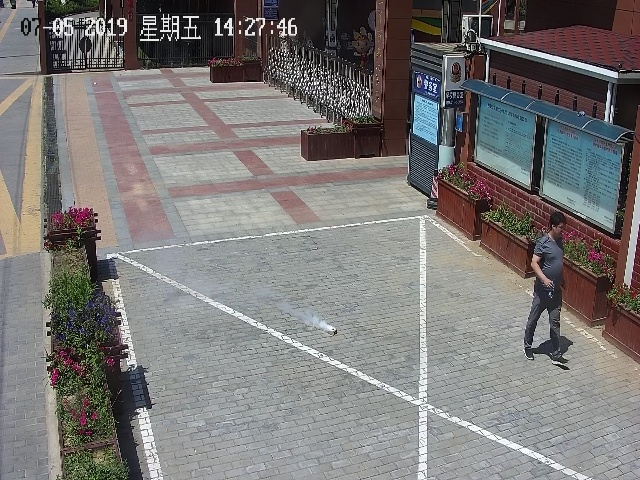yanwu: (269, 296, 333, 330)
